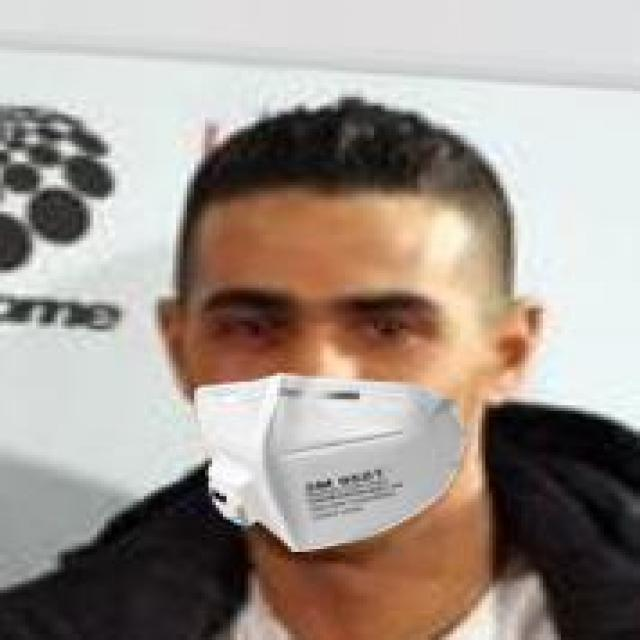mask: (108, 126, 550, 543)
